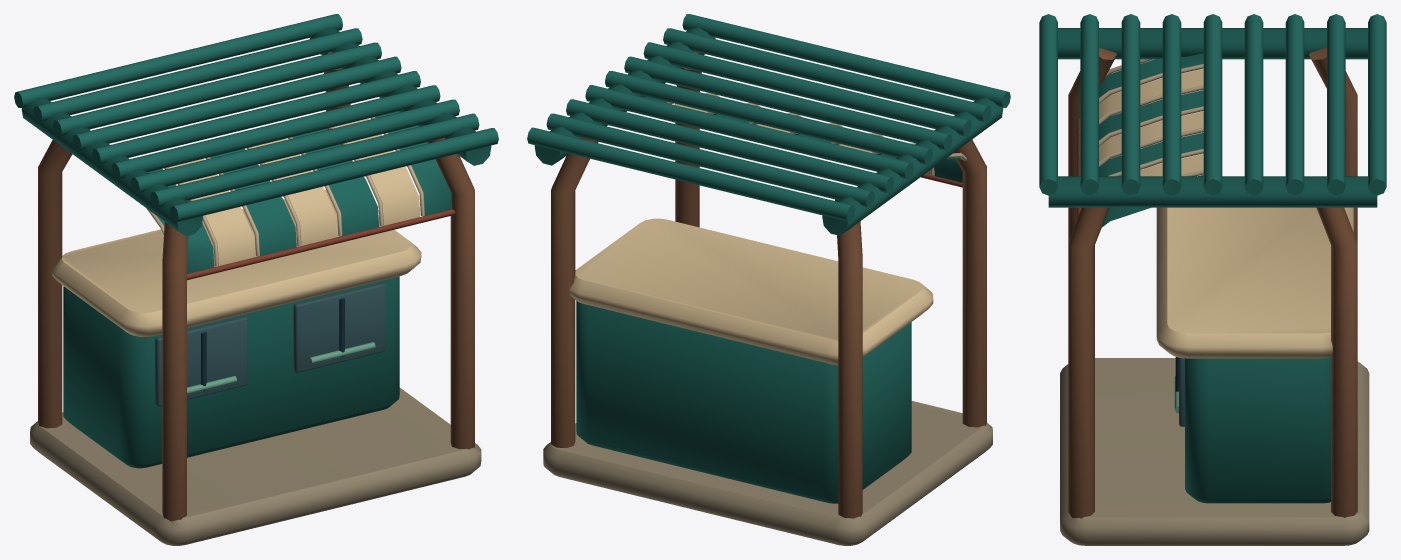
File: annex_market_4.glb
The picture shows the model from 3 angles, left to right: view 1: azimuth 30°, elevation 25°; view 2: azimuth 150°, elevation 25°; view 3: azimuth 270°, elevation 25°; orthographic projection. The views are drawn at different scales.
Parts seen in each view (by area): view 1: Annex_market_4; view 2: Annex_market_4; view 3: Annex_market_4.
Boxes of the visible parts, x1=… form: Annex_market_4: x1=14, y1=14, x2=498, y2=545; Annex_market_4: x1=527, y1=14, x2=1010, y2=545; Annex_market_4: x1=1039, y1=14, x2=1386, y2=545.
Size of the model in its own units: 2.24 by 2.32 by 1.98.
